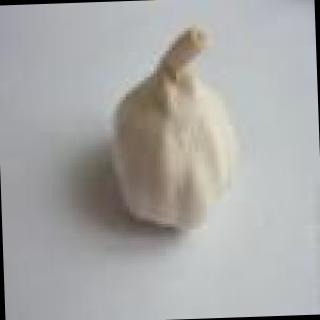Bawang Putih: (98, 14, 240, 233)
